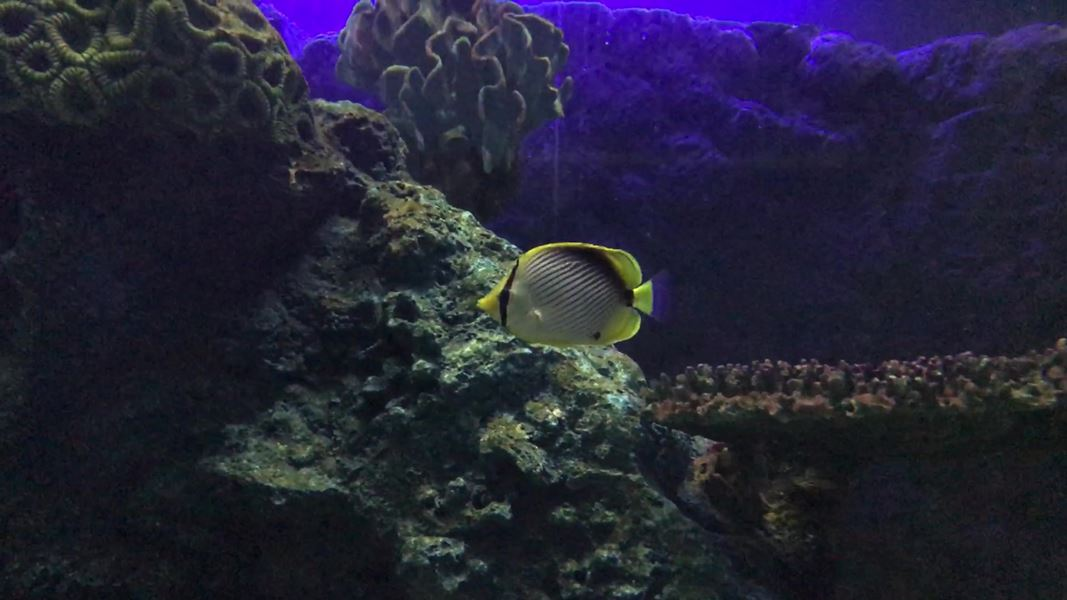Black-backed butterflyfish: (466, 233, 683, 360)
